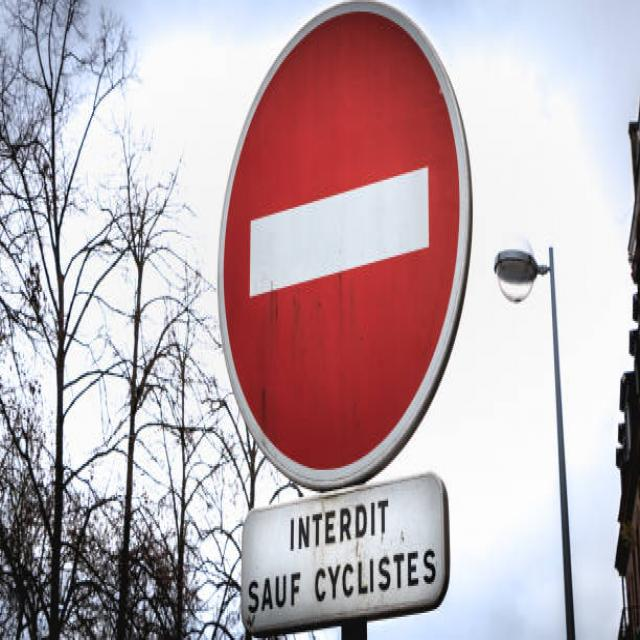do_not_enter: (209, 0, 478, 494)
